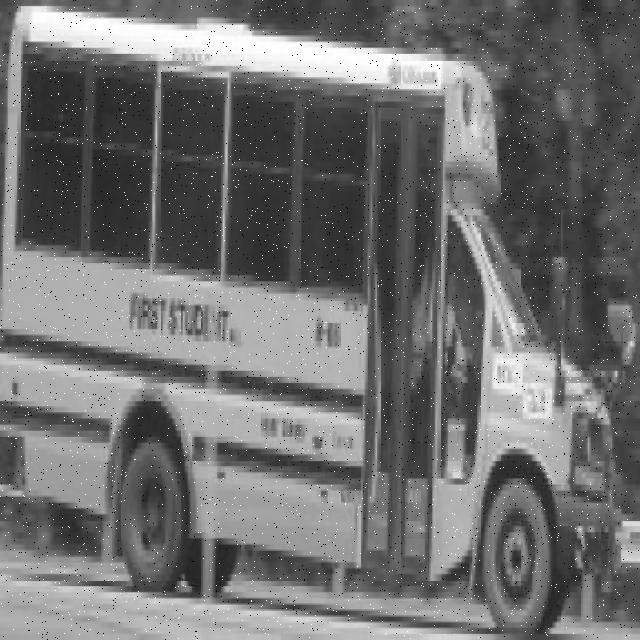Bus- Small: (0, 6, 635, 635)
